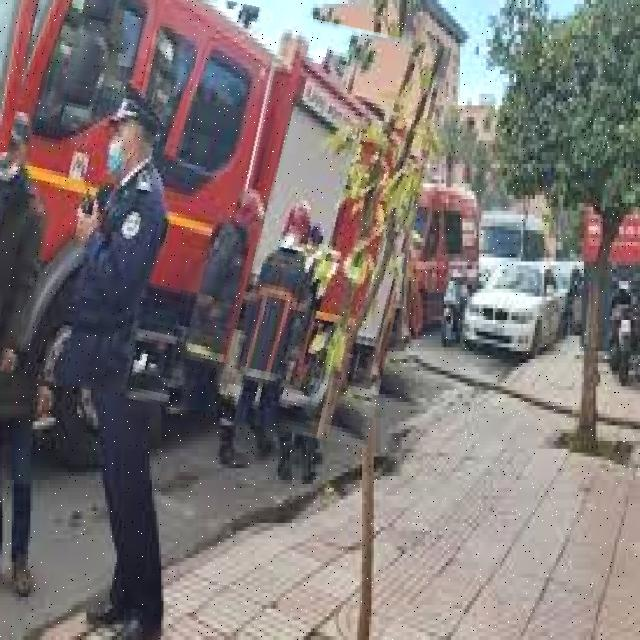pompier: (0, 0, 433, 429)
